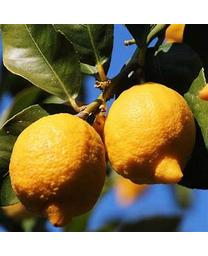lemon: (11, 112, 105, 226), (105, 83, 197, 187)
